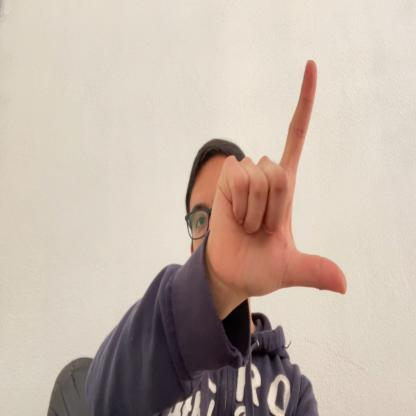L: (206, 59, 348, 302)
